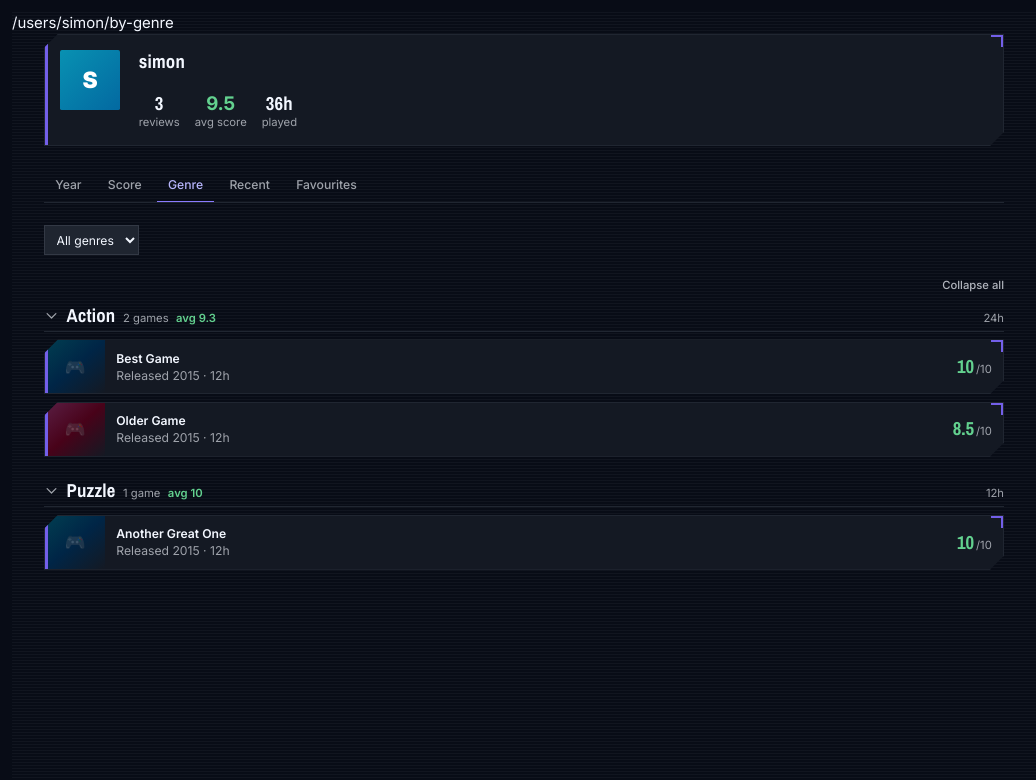
Test case: filtering a profile by genre › narrows and widens the list from the menu
Expected: the headings read "Action", "Puzzle", in this order, [44,304,116,327]; [44,479,116,502]
Select "Horror" in the dropdown named "Filter by genre": (92,240) [44,225,139,255]
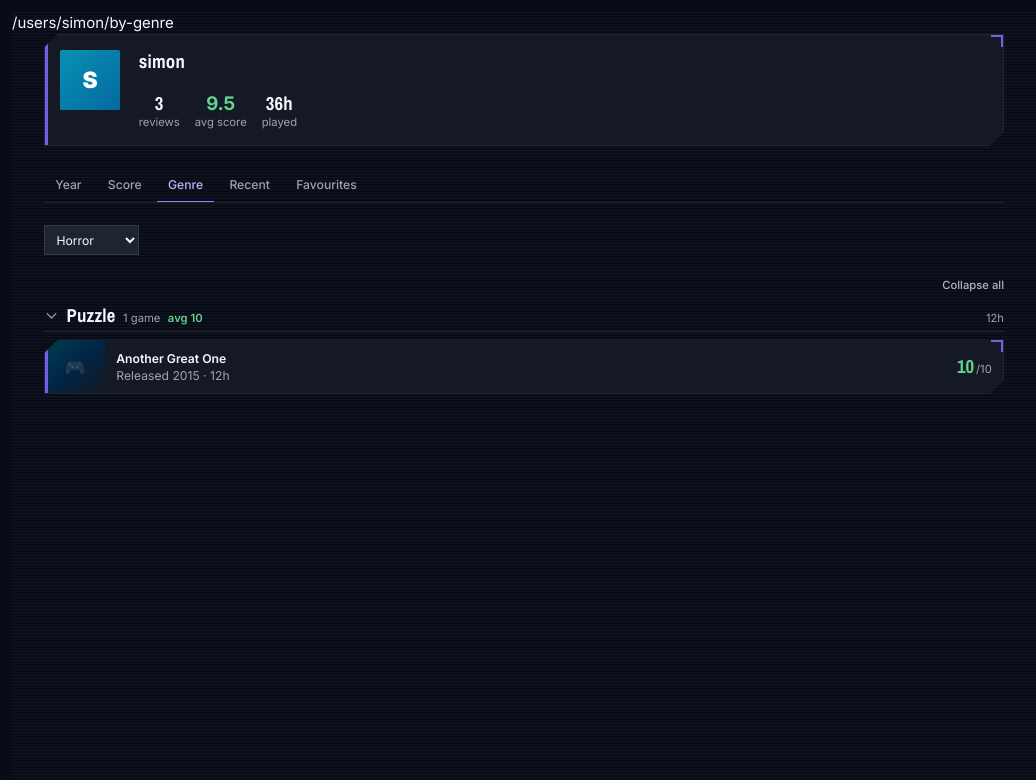
Expected: the headings read "Puzzle", in this order, [44,304,116,327]
Select "All genres" in the dropdown named "Filter by genre": (92,240) [44,225,139,255]
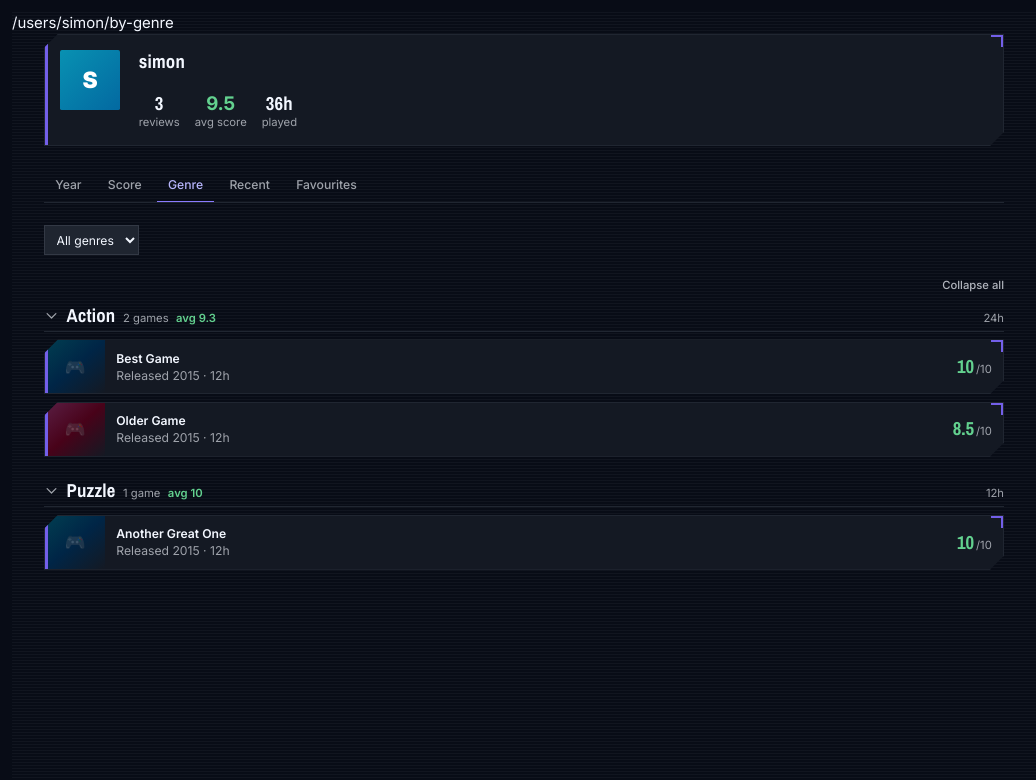
Expected: the headings read "Action", "Puzzle", in this order, [44,304,116,327]; [44,479,116,502]
